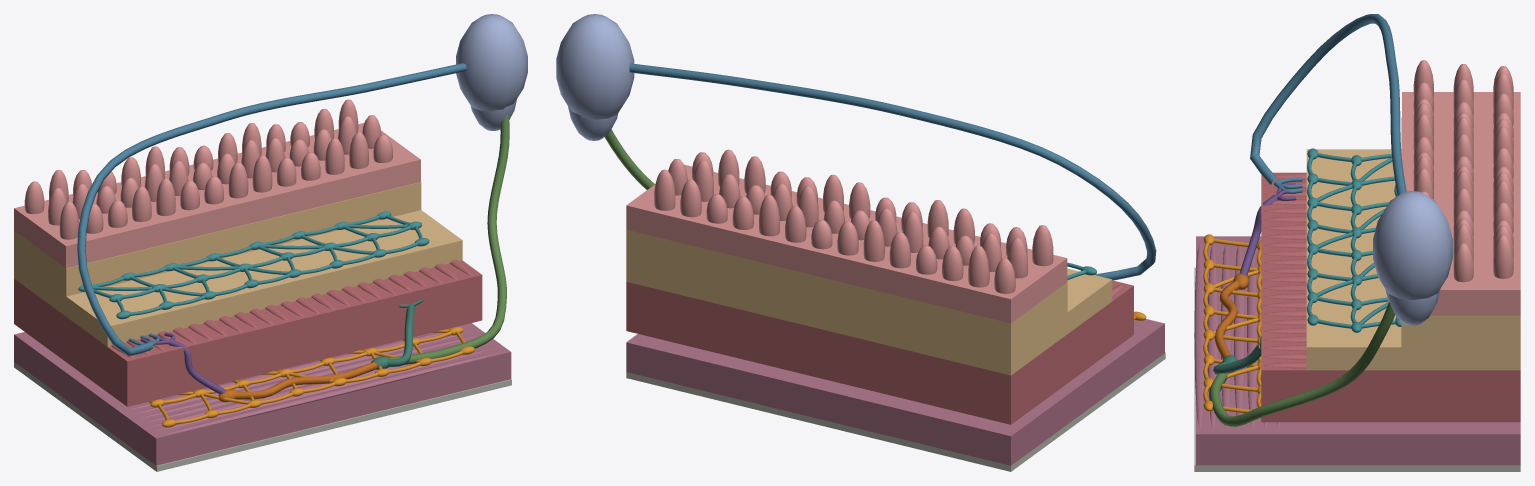
File: enteric-wall.glb
3 renders of one model, left to right at view 1: azimuth 30°, elevation 25°; view 2: azimuth 150°, elevation 25°; view 3: azimuth 270°, elevation 25°, orthographic. The views are drawn at different scales.
Visible parts, largest first — view 1: mucosa, submucosa, circular_muscle, longitudinal_muscle, submucosal_plexus, medulla, vagal_afferent, myenteric_plexus, serosa, vagal_efferent, enteric_interneuron, enteric_motor (+1 smaller); view 2: mucosa, circular_muscle, submucosa, longitudinal_muscle, medulla, vagal_afferent, serosa, vagal_efferent; view 3: mucosa, circular_muscle, longitudinal_muscle, submucosa, medulla, submucosal_plexus, vagal_afferent, myenteric_plexus, vagal_efferent, serosa, enteric_interneuron, intrinsic_sensory (+1 smaller).
Part boxes in pixels (left/top/right/bottom): mucosa: left=14, top=99, right=420, bottom=268; submucosa: left=14, top=182, right=462, bottom=346; circular_muscle: left=14, top=259, right=482, bottom=406; longitudinal_muscle: left=14, top=323, right=511, bottom=465; submucosal_plexus: left=78, top=211, right=429, bottom=319; medulla: left=456, top=14, right=527, bottom=130; vagal_afferent: left=77, top=63, right=466, bottom=355; myenteric_plexus: left=148, top=327, right=474, bottom=427; serosa: left=14, top=362, right=511, bottom=471; vagal_efferent: left=389, top=114, right=509, bottom=364; enteric_interneuron: left=218, top=362, right=377, bottom=402; enteric_motor: left=371, top=299, right=423, bottom=369; mucosa: left=626, top=149, right=1067, bottom=323; circular_muscle: left=626, top=280, right=1133, bottom=424; submucosa: left=626, top=229, right=1112, bottom=375; longitudinal_muscle: left=626, top=319, right=1164, bottom=465; medulla: left=556, top=14, right=634, bottom=140; vagal_afferent: left=629, top=63, right=1156, bottom=280; serosa: left=626, top=352, right=1165, bottom=471; vagal_efferent: left=604, top=129, right=654, bottom=189; mucosa: left=1402, top=60, right=1520, bottom=315; circular_muscle: left=1261, top=172, right=1520, bottom=422; longitudinal_muscle: left=1194, top=236, right=1520, bottom=465; submucosa: left=1306, top=117, right=1520, bottom=370; medulla: left=1373, top=191, right=1452, bottom=325; submucosal_plexus: left=1307, top=148, right=1401, bottom=332; vagal_afferent: left=1250, top=14, right=1406, bottom=195; myenteric_plexus: left=1203, top=234, right=1261, bottom=418; vagal_efferent: left=1209, top=302, right=1395, bottom=426; serosa: left=1194, top=267, right=1520, bottom=471; enteric_interneuron: left=1214, top=273, right=1249, bottom=358; intrinsic_sensory: left=1239, top=183, right=1296, bottom=275.
Size of the model in its own units: 4.14 by 2.27 by 2.09.
